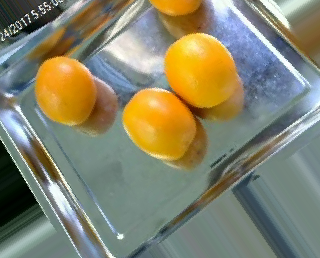Orange: (164, 31, 237, 108), (121, 86, 196, 159), (34, 55, 98, 124)
